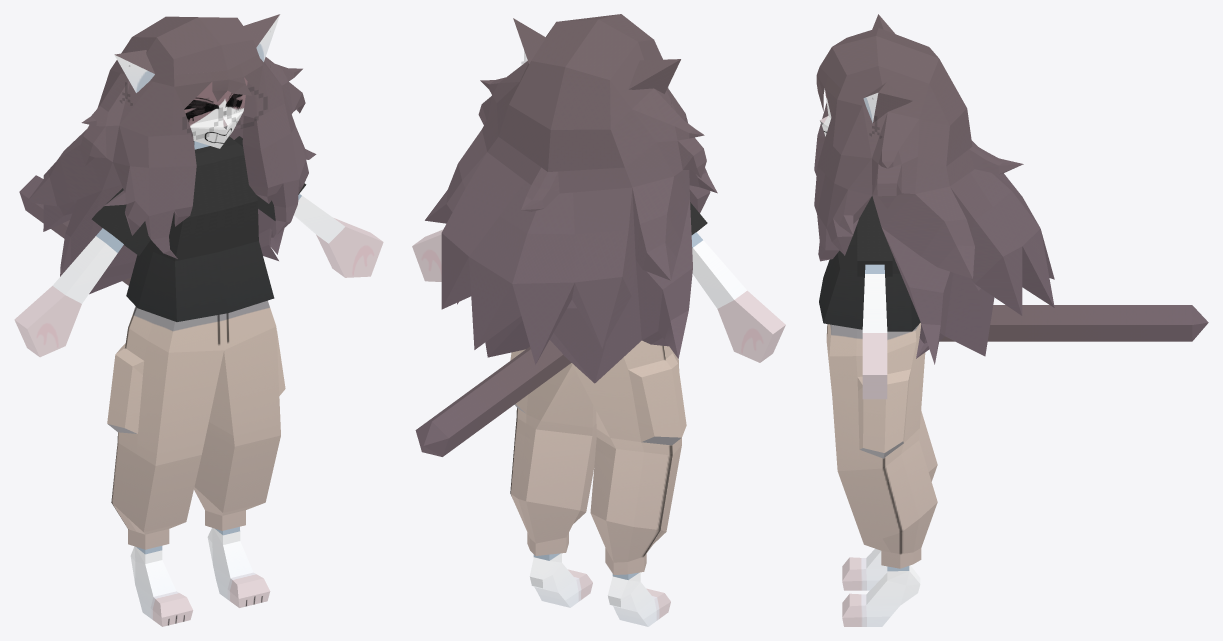
File: FurryCat_Low_Poly.glb
The picture shows the model from 3 angles, left to right: view 1: azimuth 30°, elevation 25°; view 2: azimuth 150°, elevation 25°; view 3: azimuth 270°, elevation 25°; orthographic projection. The views are drawn at different scales.
Parts seen in each view (by area): view 1: unnamed (×10); view 2: unnamed (×6); view 3: unnamed (×8).
Part boxes in pixels (x1,y1,x2,y2): unnamed (×10): (14, 14, 383, 626); unnamed (×6): (412, 14, 785, 626); unnamed (×8): (814, 14, 1208, 626).
Size of the model in its own units: 1.26 by 1.97 by 1.24.
Materials: 4 (4 with a texture image).
